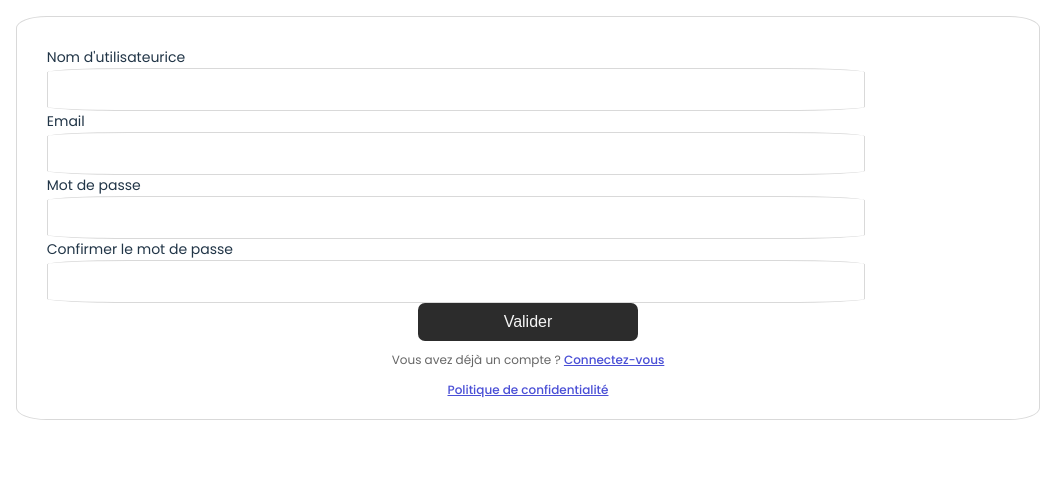
it: SignUpForm Validation › should display error message when no field is filled
Click the button "Valider": (528, 322) 418,303 -> 638,341
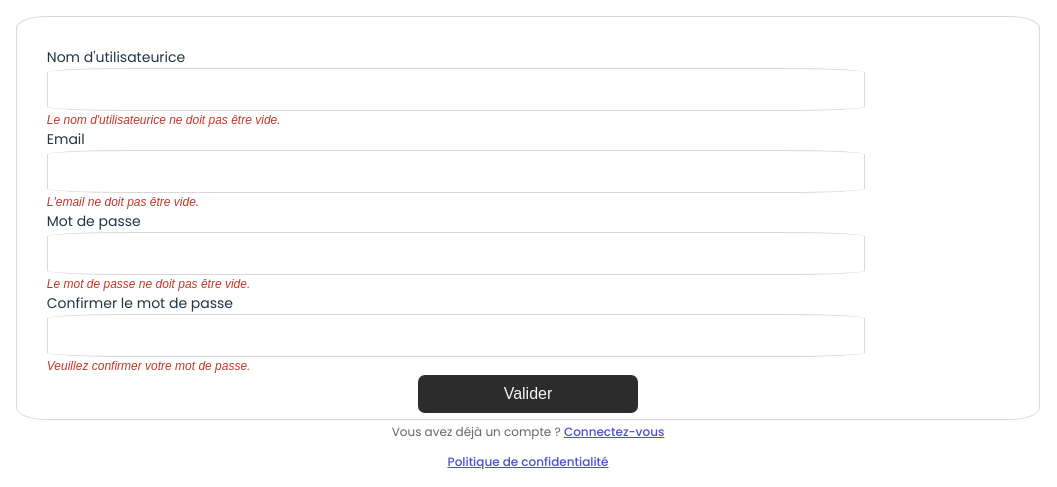
Expected: the text "Le nom d'utilisateurice ne doit pas être vide." is shown, 47,113 -> 281,127
